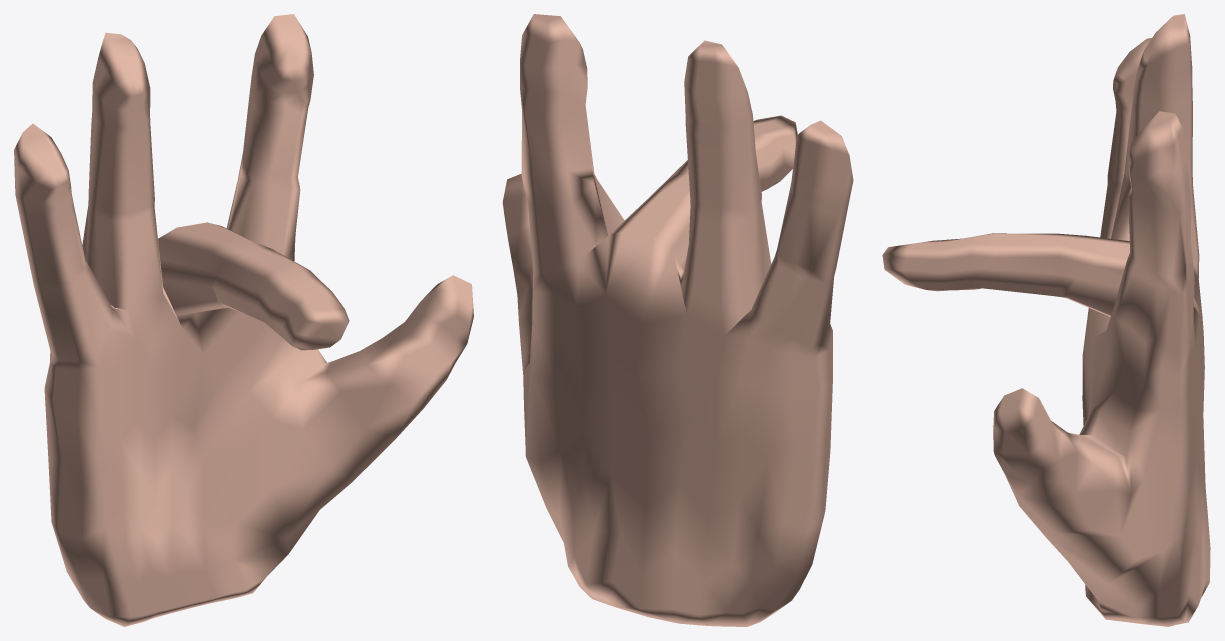
Rendered from MAO_JESUS.obj.
3 renders of one model, left to right at view 1: azimuth 30°, elevation 25°; view 2: azimuth 150°, elevation 25°; view 3: azimuth 270°, elevation 25°, orthographic. The views are drawn at different scales.
Visible parts, largest first — view 1: mao_dir:mao_dir; view 2: mao_dir:mao_dir; view 3: mao_dir:mao_dir.
Boxes of the visible parts, left/top/right/bottom form: mao_dir:mao_dir: left=14, top=14, right=473, bottom=626; mao_dir:mao_dir: left=502, top=14, right=853, bottom=626; mao_dir:mao_dir: left=882, top=14, right=1210, bottom=626.
Size of the model in its own units: 172 by 234 by 125.
